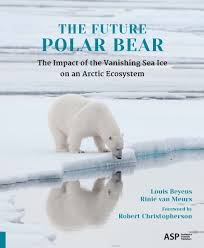PolarBear: (35, 92, 132, 168)
